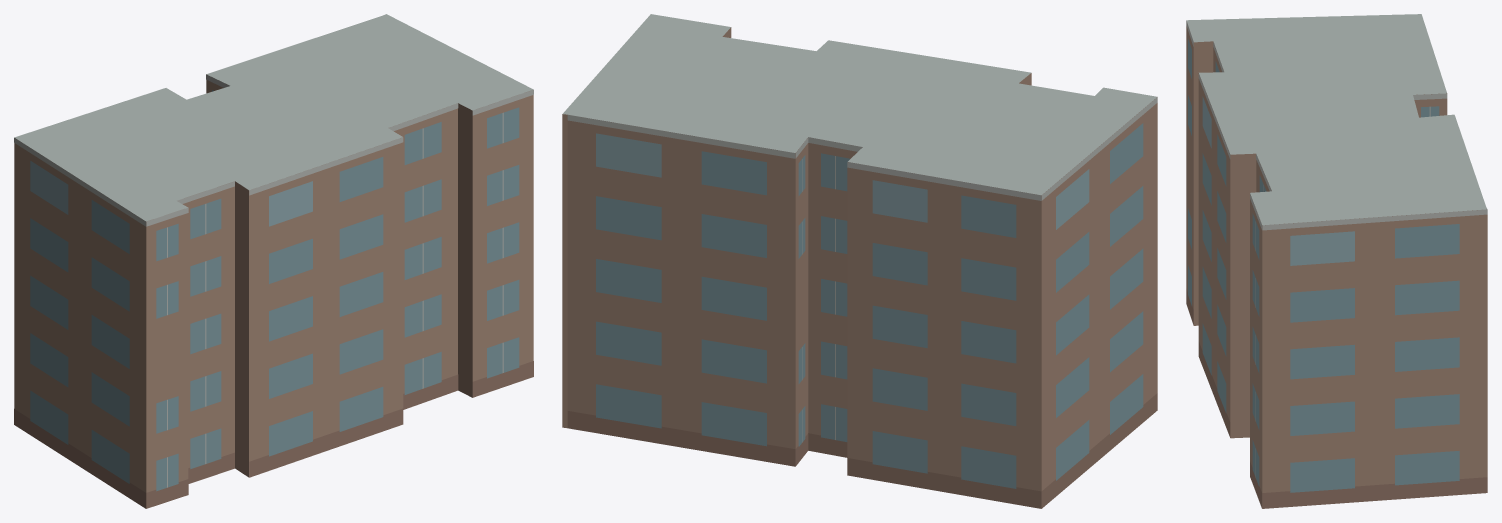
The model's file is survey-upis-32850710.glb.
The picture shows the model from 3 angles, left to right: view 1: azimuth 30°, elevation 25°; view 2: azimuth 150°, elevation 25°; view 3: azimuth 270°, elevation 25°; orthographic projection. The views are drawn at different scales.
Parts seen in each view (by area): view 1: survey-upis-32850710.tmp; view 2: survey-upis-32850710.tmp; view 3: survey-upis-32850710.tmp.
Part boxes in pixels (x1,y1,x2,y2): survey-upis-32850710.tmp: (14,14,533,508); survey-upis-32850710.tmp: (562,14,1157,508); survey-upis-32850710.tmp: (1186,14,1487,508).
Size of the model in its own units: 21.34 by 13.35 by 12.86.
